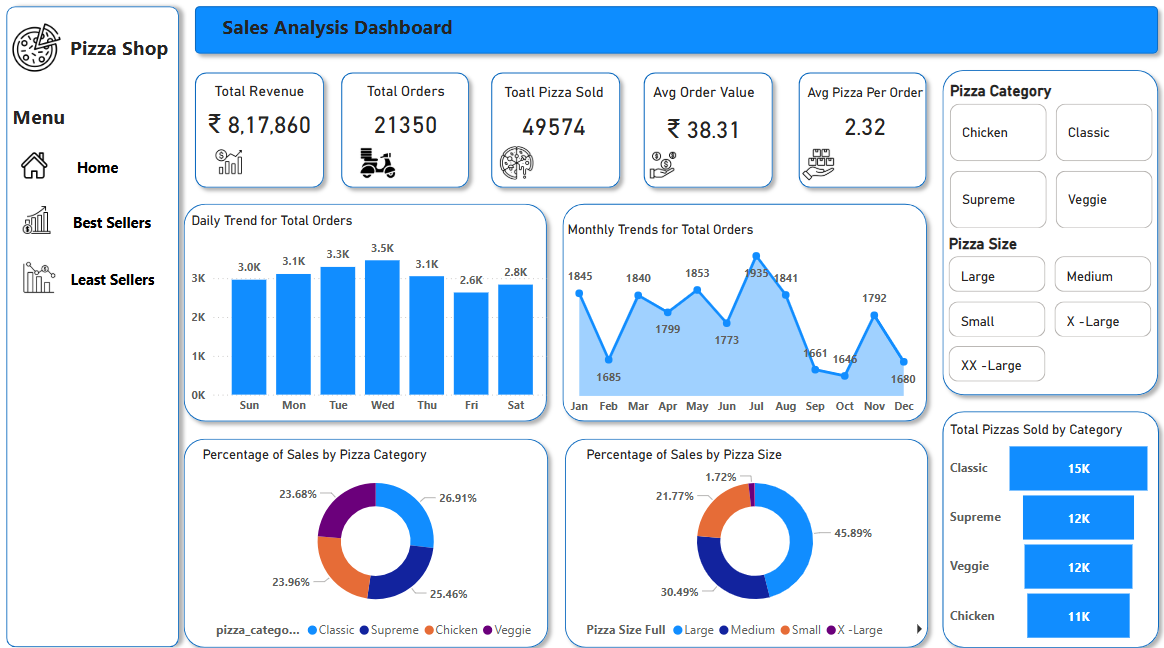

This screenshot's page, from the dashboard's own definition file:
{"tool":"powerbi","page":{"name":"Home","canvas":[1280,720],"ordinal":0},"visuals":[{"type":"shape","box":[207.1,0,1072.9,70],"z":0},{"type":"shape","box":[0,0,207.1,720],"z":1000},{"type":"shape","box":[194.9,473.4,417.2,247],"z":2000},{"type":"shape","box":[207.2,72.7,159.2,144.1],"z":3000},{"type":"shape","box":[194.9,216.8,415.8,256.6],"z":4000},{"type":"shape","box":[1025.7,70,254.3,374.3],"z":5000},{"type":"shape","box":[609.3,216.8,417.2,256.6],"z":6000},{"type":"shape","box":[612,473.4,415.8,247],"z":7000},{"type":"shape","box":[1025,443.2,255.2,277.2],"z":8000},{"type":"shape","box":[366.4,72.7,157.8,144.1],"z":9000},{"type":"shape","box":[531,72.7,159.2,144.1],"z":10000},{"type":"shape","box":[698.5,72.7,159.2,144.1],"z":11000},{"type":"shape","box":[868.6,72.7,157.8,144.1],"z":12000},{"type":"card","title":"Total Revenue","fields":{"Values":["pizza_sales.Total Revenue"]},"box":[207.2,93.3,159.2,76.8],"z":13000},{"type":"textbox","box":[241.4,11.4,338.6,50],"z":14000},{"type":"image","box":[219.6,160.5,67.2,38.4],"z":15000},{"type":"card","title":"Total Orders","fields":{"Values":["pizza_sales.Total Orders"]},"box":[377.4,93.3,137.2,76.8],"z":16000},{"type":"card","title":"Total Pizza Sold","fields":{"Values":["pizza_sales.Total Pizzas Sold"]},"box":[509.1,94.7,199,79.6],"z":17000},{"type":"card","title":"Avg Order Value","fields":{"Values":["pizza_sales.Average Order Value"]},"box":[698.5,94.7,149.6,85.1],"z":18000},{"type":"card","title":"Avg Pizza Per Order","fields":{"Values":["pizza_sales.Avg Pizzas Per Order"]},"box":[874.1,94.7,152.3,79.6],"z":19000},{"type":"image","box":[874.1,160.5,49.4,45.3],"z":20000},{"type":"image","box":[708.1,160.5,41.2,45.3],"z":21000},{"type":"image","box":[388.3,152.3,54.9,57.6],"z":22000},{"type":"image","box":[544.8,157.8,46.7,46.7],"z":23000},{"type":"image","box":[11.4,15.7,62.9,78.6],"z":24000},{"type":"image","box":[20,160,38.6,45.7],"z":25000},{"type":"image","box":[15.7,222.9,54.3,40],"z":26000},{"type":"image","box":[20,278.6,50,55.7],"z":27000},{"type":"columnChart","title":"Daily Trend for Total Orders","fields":{"Y":["pizza_sales.Total Orders"],"Category":["pizza_sales.Day_Short"]},"box":[207.2,236,404.8,229.2],"z":28000},{"type":"areaChart","title":"Monthly Trends for Total Orders","fields":{"Category":["pizza_sales.Month_Short"],"Y":["pizza_sales.Total Orders"]},"box":[618.6,245.7,391.4,220],"z":29000},{"type":"donutChart","title":"Percentage of Sales by Pizza Category","fields":{"Category":["pizza_sales.pizza_category"],"Y":["pizza_sales.Total Revenue"]},"box":[219.6,491.3,389.7,219.6],"z":30000},{"type":"donutChart","title":"Percentage of Sales by Pizza Size","fields":{"Y":["pizza_sales.Total Revenue"],"Category":["pizza_sales.Custom"]},"box":[639.5,491.3,380.1,219.6],"z":31000},{"type":"funnel","title":"Total Pizzas Sold by Category","fields":{"Category":["pizza_sales.pizza_category"],"Y":["pizza_sales.Total Pizzas Sold"]},"box":[1038.6,464.3,231.4,247.1],"z":32000},{"type":"advancedSlicerVisual","title":"Pizza Category","fields":{"Values":["pizza_sales.pizza_category"]},"box":[1038.6,91.4,232.9,165.7],"z":33000},{"type":"advancedSlicerVisual","title":"Pizza Size","fields":{"Values":["pizza_sales.Pizza Size Full"]},"box":[1037.1,258.6,232.9,168.6],"z":34000},{"type":"actionButton","title":"HOME","box":[74.3,217.1,101.4,55.7],"z":35000},{"type":"textbox","box":[74.3,34.3,135.7,42.9],"z":36000},{"type":"textbox","box":[11.4,110,94.3,42.9],"z":37000},{"type":"actionButton","box":[75.7,287.1,100,40],"z":38000},{"type":"actionButton","box":[58.6,164.3,100,40],"z":39000}]}

Visuals, with their boxes in screenshot pixels (x1, y1, x2, y2), scaled from the page's 1280x720 canvas onto the 1164x648 screenshot:
shape: (left=188, top=0, right=1163, bottom=63)
shape: (left=0, top=0, right=188, bottom=647)
shape: (left=177, top=426, right=557, bottom=647)
shape: (left=188, top=65, right=333, bottom=195)
shape: (left=177, top=195, right=555, bottom=426)
shape: (left=933, top=63, right=1163, bottom=400)
shape: (left=554, top=195, right=933, bottom=426)
shape: (left=557, top=426, right=935, bottom=647)
shape: (left=932, top=399, right=1163, bottom=647)
shape: (left=333, top=65, right=477, bottom=195)
shape: (left=483, top=65, right=628, bottom=195)
shape: (left=635, top=65, right=780, bottom=195)
shape: (left=790, top=65, right=933, bottom=195)
"Total Revenue" card: (left=188, top=84, right=333, bottom=153)
textbox: (left=220, top=10, right=527, bottom=55)
image: (left=200, top=144, right=261, bottom=179)
"Total Orders" card: (left=343, top=84, right=468, bottom=153)
"Total Pizza Sold" card: (left=463, top=85, right=644, bottom=157)
"Avg Order Value" card: (left=635, top=85, right=771, bottom=162)
"Avg Pizza Per Order" card: (left=795, top=85, right=933, bottom=157)
image: (left=795, top=144, right=840, bottom=185)
image: (left=644, top=144, right=681, bottom=185)
image: (left=353, top=137, right=403, bottom=189)
image: (left=495, top=142, right=538, bottom=184)
image: (left=10, top=14, right=68, bottom=85)
image: (left=18, top=144, right=53, bottom=185)
image: (left=14, top=201, right=64, bottom=237)
image: (left=18, top=251, right=64, bottom=301)
"Daily Trend for Total Orders" columnChart: (left=188, top=212, right=557, bottom=419)
"Monthly Trends for Total Orders" areaChart: (left=563, top=221, right=918, bottom=419)
"Percentage of Sales by Pizza Category" donutChart: (left=200, top=442, right=554, bottom=640)
"Percentage of Sales by Pizza Size" donutChart: (left=582, top=442, right=927, bottom=640)
"Total Pizzas Sold by Category" funnel: (left=944, top=418, right=1155, bottom=640)
"Pizza Category" advancedSlicerVisual: (left=944, top=82, right=1156, bottom=231)
"Pizza Size" advancedSlicerVisual: (left=943, top=233, right=1155, bottom=384)
"HOME" actionButton: (left=68, top=195, right=160, bottom=246)
textbox: (left=68, top=31, right=191, bottom=69)
textbox: (left=10, top=99, right=96, bottom=138)
actionButton: (left=69, top=258, right=160, bottom=294)
actionButton: (left=53, top=148, right=144, bottom=184)
